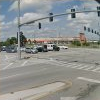crosswalk: (56, 60, 100, 71)
